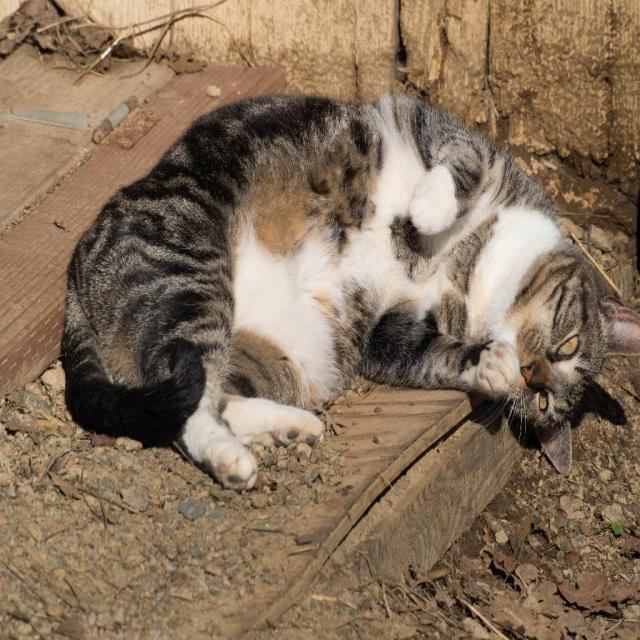Cat: (60, 88, 639, 490)
